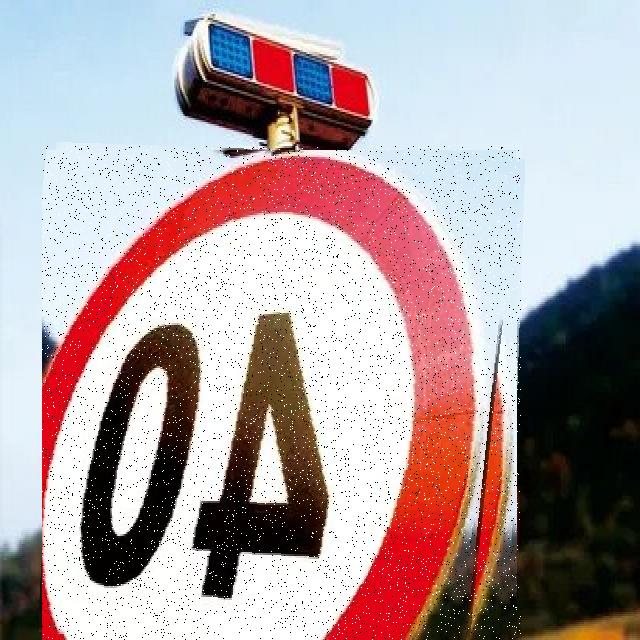speed limit 40: (42, 146, 521, 640)
